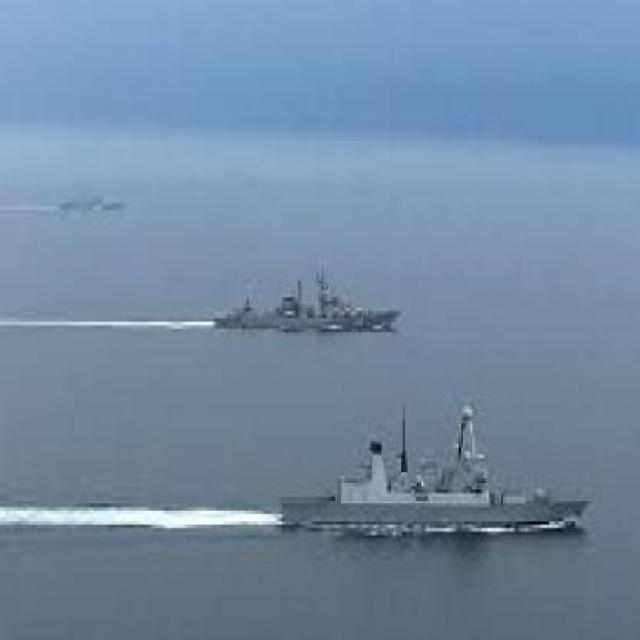warship2: (259, 428, 601, 582), (182, 267, 418, 378), (46, 165, 150, 225)
